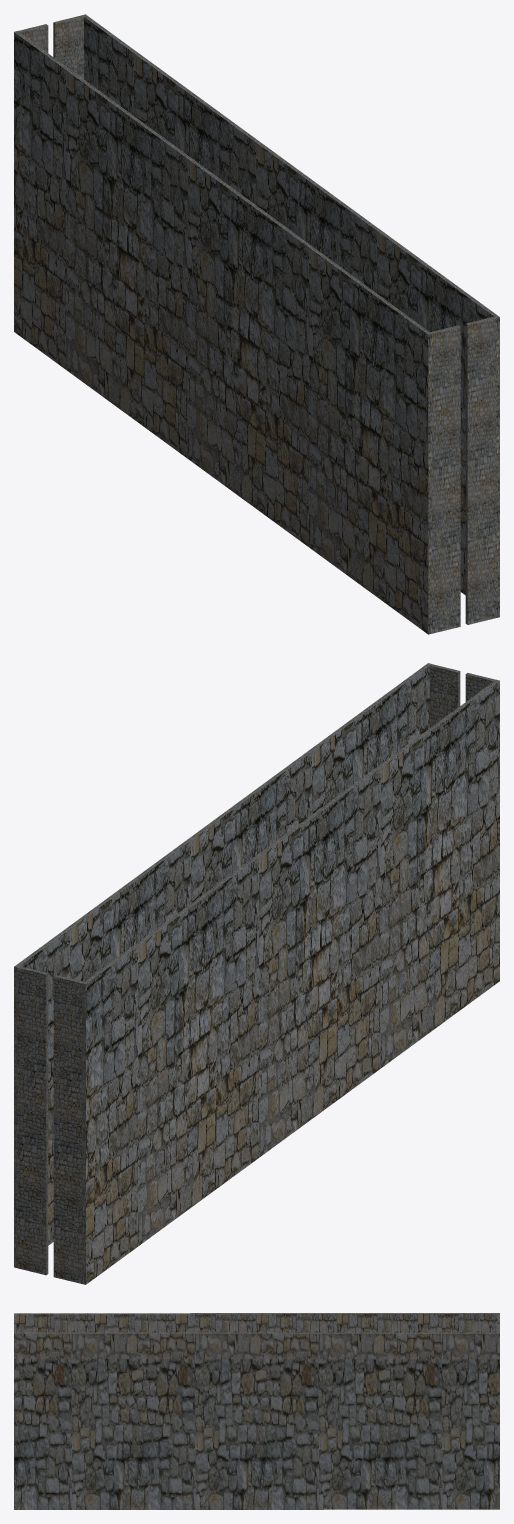
Rendered from 10x1construction.glb.
3 views of the same model, one above another, from view 1: azimuth 30°, elevation 25°; view 2: azimuth 150°, elevation 25°; view 3: azimuth 270°, elevation 25° (orthographic). The views are drawn at different scales.
Parts seen in each view (by area): view 1: Cube.002, Cube.003, Cube.005, Cube.001, Cube.004; view 2: Cube.002, Cube.003, Cube.004, Cube.007, Cube.005; view 3: Cube.003, Cube.002.
Boxes of the visible parts, x1=… form: Cube.002: x1=14, y1=31, x2=431, y2=634; Cube.003: x1=82, y1=14, x2=499, y2=617; Cube.005: x1=465, y1=316, x2=496, y2=624; Cube.001: x1=430, y1=325, x2=460, y2=633; Cube.004: x1=53, y1=15, x2=83, y2=78; Cube.002: x1=82, y1=679, x2=499, y2=1284; Cube.003: x1=14, y1=663, x2=431, y2=1268; Cube.004: x1=17, y1=966, x2=48, y2=1275; Cube.007: x1=53, y1=975, x2=83, y2=1283; Cube.005: x1=429, y1=664, x2=460, y2=728; Cube.003: x1=14, y1=1332, x2=499, y2=1509; Cube.002: x1=14, y1=1313, x2=499, y2=1332.
Bounding box in the file's own units: 1.01 × 4 × 10.
Materials: 6 (6 with a texture image).
